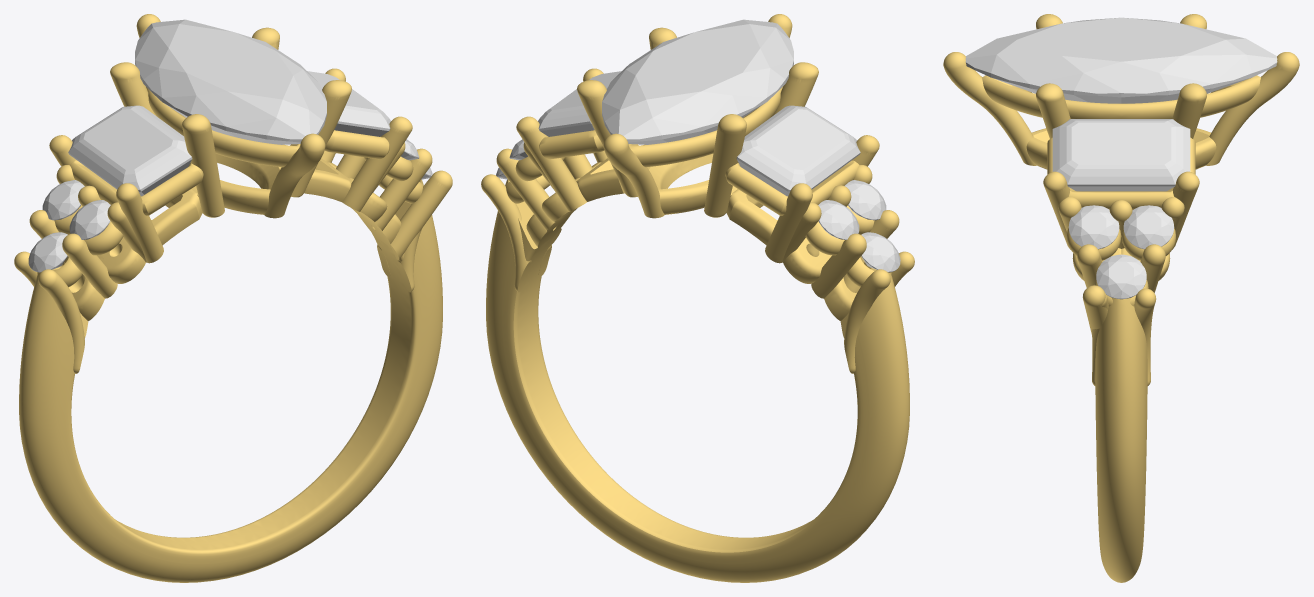
Rendered from JackV3ygeng_blender.glb.
3 renders of one model, left to right at view 1: azimuth 30°, elevation 25°; view 2: azimuth 150°, elevation 25°; view 3: azimuth 270°, elevation 25°, orthographic.
Visible parts, largest first — view 1: V3 Jack YG for 3d model, Jack dia center for 3d model, Jack dia em for 3d model.001, Jack dia em for 3d model, Jack dia rounds for 3d model.005, Jack dia rounds for 3d model.003, Jack dia rounds for 3d model.004; view 2: V3 Jack YG for 3d model, Jack dia center for 3d model, Jack dia em for 3d model.001, Jack dia em for 3d model, Jack dia rounds for 3d model.003, Jack dia rounds for 3d model.005, Jack dia rounds for 3d model.004; view 3: V3 Jack YG for 3d model, Jack dia center for 3d model, Jack dia em for 3d model, Jack dia rounds for 3d model.001, Jack dia rounds for 3d model, Jack dia rounds for 3d model.002.
Boxes of the visible parts, x1,y1,x2,y2 form: V3 Jack YG for 3d model: [14, 14, 452, 582]; Jack dia center for 3d model: [135, 19, 326, 144]; Jack dia em for 3d model.001: [68, 105, 192, 196]; Jack dia em for 3d model: [307, 71, 390, 136]; Jack dia rounds for 3d model.005: [69, 200, 110, 239]; Jack dia rounds for 3d model.003: [42, 180, 84, 220]; Jack dia rounds for 3d model.004: [28, 232, 67, 272]; V3 Jack YG for 3d model: [481, 14, 914, 582]; Jack dia center for 3d model: [602, 19, 793, 144]; Jack dia em for 3d model.001: [736, 105, 860, 196]; Jack dia em for 3d model: [538, 71, 621, 136]; Jack dia rounds for 3d model.003: [818, 200, 859, 239]; Jack dia rounds for 3d model.005: [845, 180, 886, 220]; Jack dia rounds for 3d model.004: [861, 232, 900, 272]; V3 Jack YG for 3d model: [943, 14, 1299, 582]; Jack dia center for 3d model: [965, 17, 1277, 103]; Jack dia em for 3d model: [1052, 119, 1190, 191]; Jack dia rounds for 3d model.001: [1096, 254, 1146, 299]; Jack dia rounds for 3d model: [1123, 205, 1174, 249]; Jack dia rounds for 3d model.002: [1068, 205, 1119, 249].
Size of the model in its own units: 21.34 by 24.98 by 15.51.
